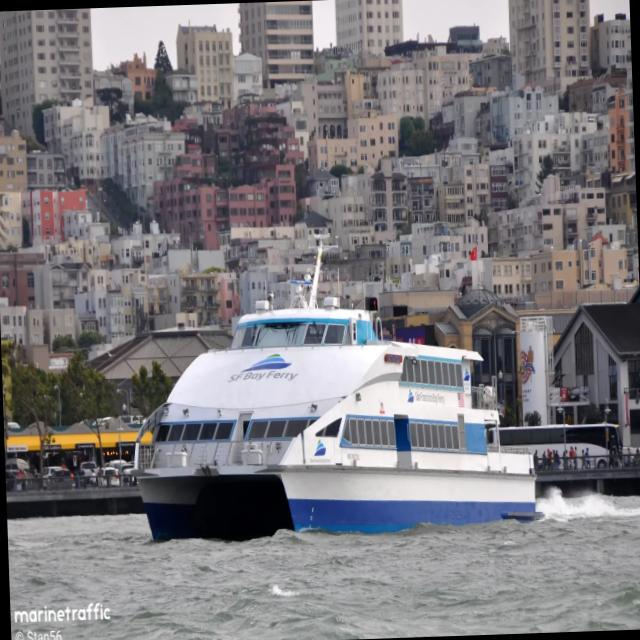Passenger: (135, 247, 535, 539)
